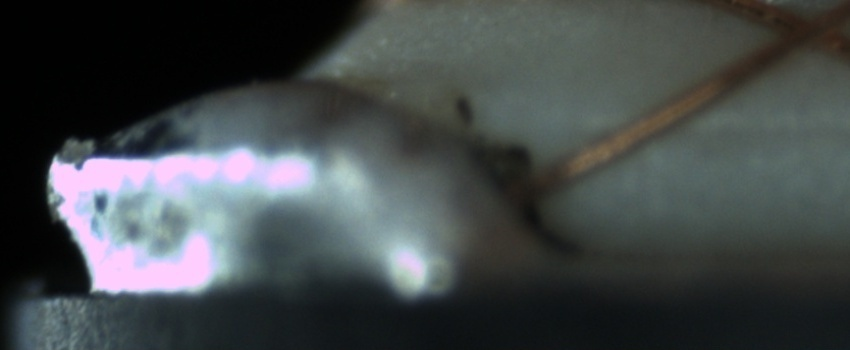CL: (756, 0, 845, 62)
DL: (669, 94, 850, 162)
